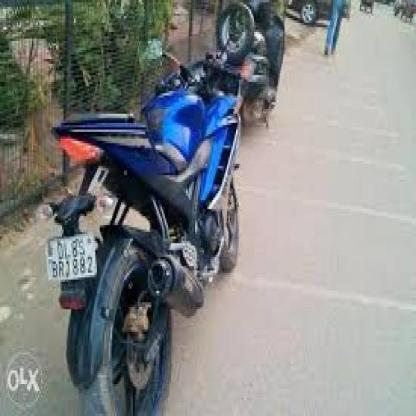bike: (46, 86, 240, 404)
